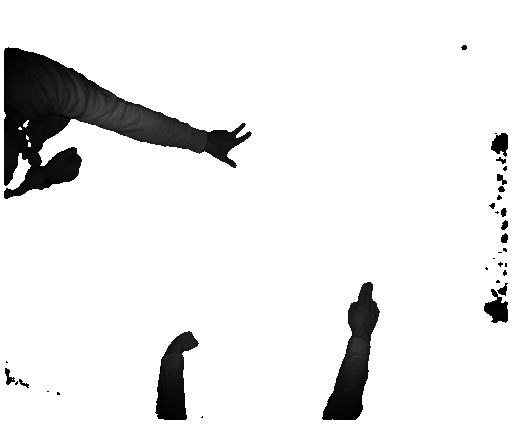fist: (49, 145, 87, 191), (176, 328, 199, 356)
hand: (208, 120, 255, 167), (344, 280, 383, 336)
